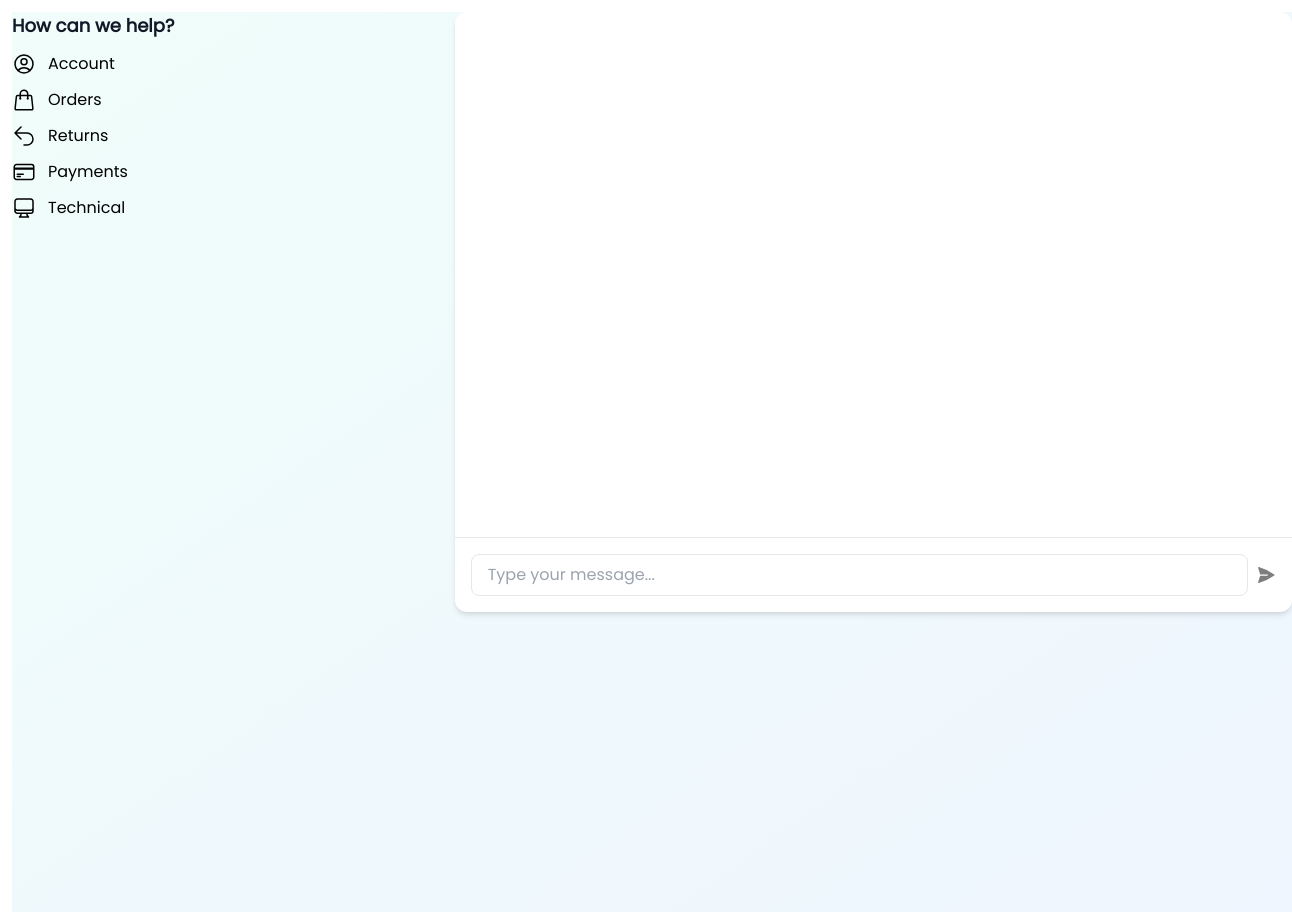
Scenario: ChatFlow › shows sub-options when main option is selected
// Click on Orders option
Click the button "Orders": (75,100) [12,88,431,112]
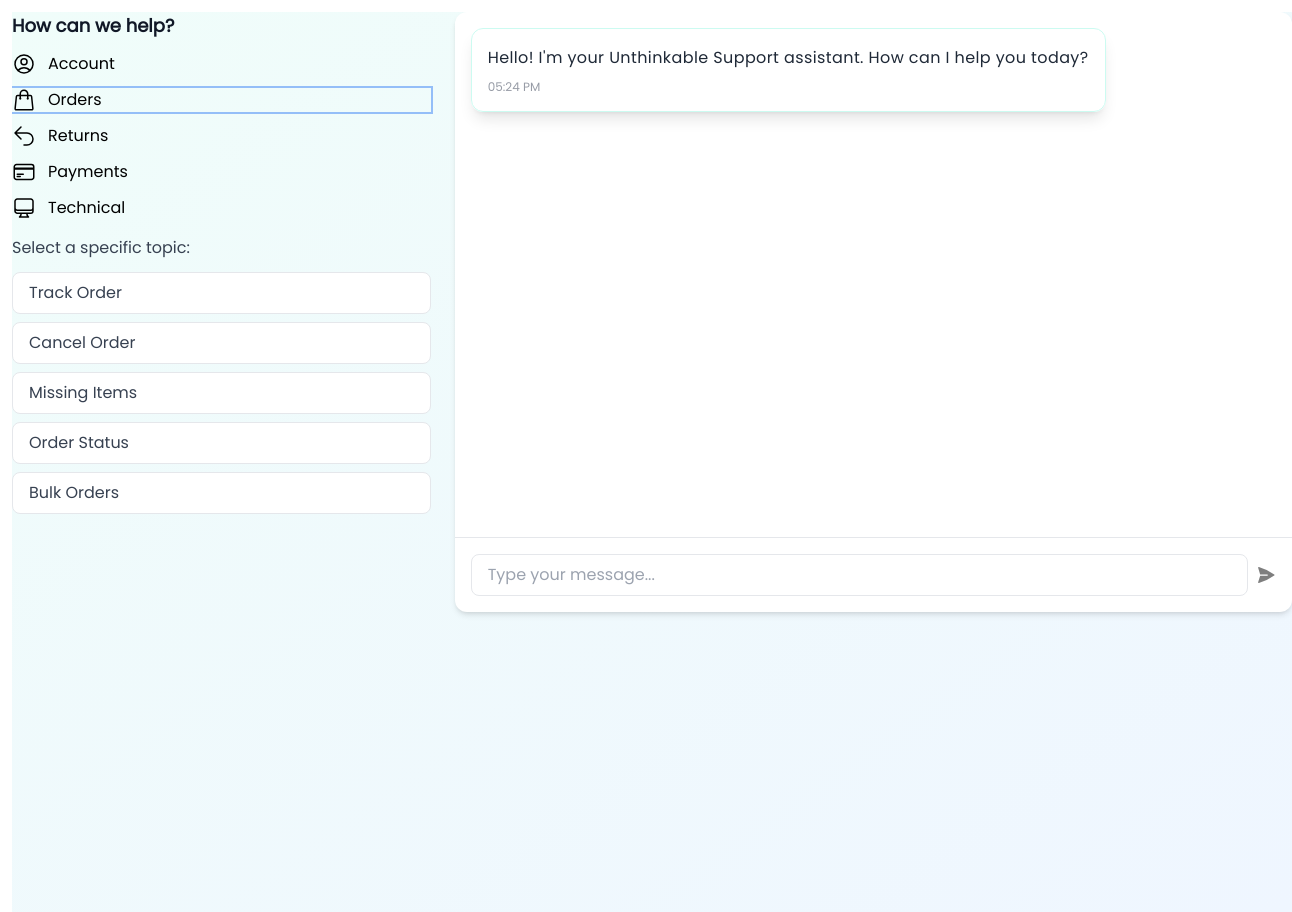
Expected: the button "Track Order" is shown, [12,272,431,314]
Expected: the button "Cancel Order" is shown, [12,322,431,364]
